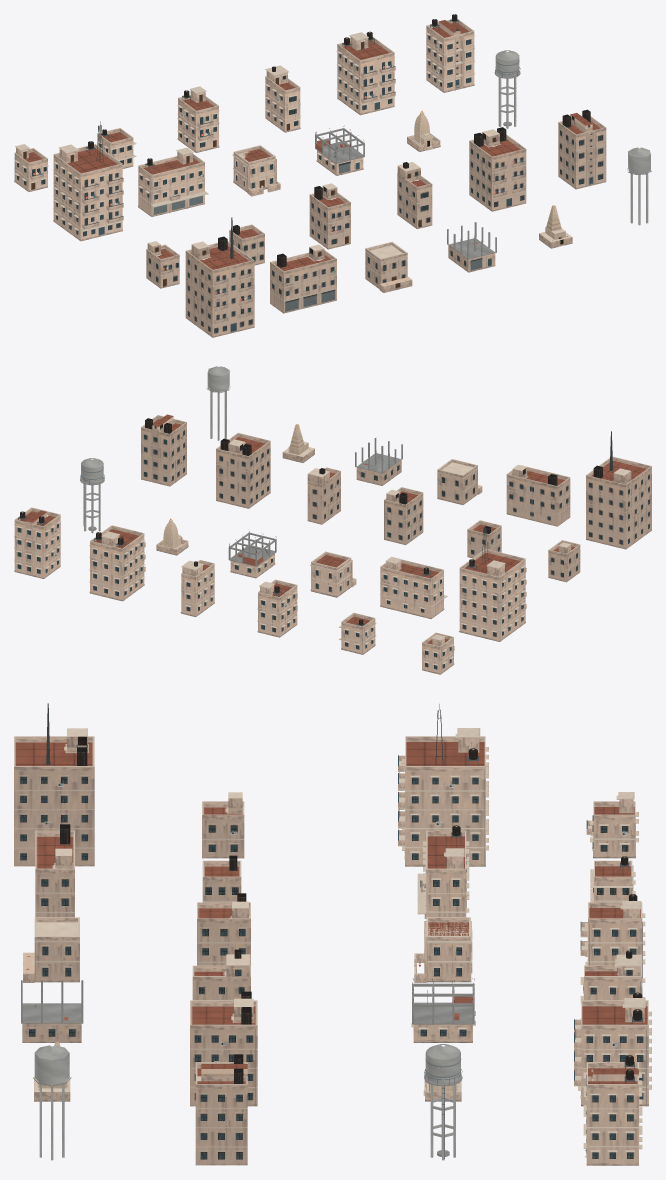
The model's file is city-kit.glb.
3 renders of one model, top to bottom at view 1: azimuth 30°, elevation 25°; view 2: azimuth 150°, elevation 25°; view 3: azimuth 270°, elevation 25°, orthographic. The views are drawn at different scales.
Visible parts, largest first — view 1: flat-5a, flat-5a-far, flat-4a-far, flat-4a, shop-row, shop-row-far, flat-4b-far, flat-4b, house-3a-far, house-3a, house-3b-far, house-3b (+12 smaller); view 2: flat-5a, flat-5a-far, flat-4a, flat-4a-far, shop-row-far, shop-row, flat-4b, flat-4b-far, house-3a, house-3a-far, house-3b-far, house-3b (+12 smaller); view 3: flat-5a, flat-5a-far, flat-4b, flat-4b-far, flat-4a, flat-4a-far, shop-row, house-3a, shop-row-far, old-house, old-house-far, half-built (+10 smaller).
Part boxes in pixels (box(x1,y1,x2,y2)): flat-5a: box(53, 121, 123, 241); flat-5a-far: box(185, 217, 254, 337); flat-4a-far: box(469, 127, 526, 211); flat-4a: box(336, 31, 395, 115); shop-row: box(138, 147, 208, 216); shop-row-far: box(270, 244, 336, 313); flat-4b-far: box(558, 109, 606, 189); flat-4b: box(426, 14, 474, 92); house-3a-far: box(309, 183, 350, 249); house-3a: box(177, 86, 219, 152); house-3b-far: box(397, 162, 432, 228); house-3b: box(265, 65, 300, 132); flat-5a: box(459, 524, 526, 641); flat-5a-far: box(586, 431, 651, 549); flat-4a: box(89, 525, 145, 601); flat-4a-far: box(216, 433, 270, 508); shop-row-far: box(506, 465, 570, 526); shop-row: box(380, 556, 447, 618); flat-4b: box(14, 507, 60, 578); flat-4b-far: box(141, 414, 186, 486); house-3a: box(257, 579, 297, 637); house-3a-far: box(384, 487, 423, 544); house-3b-far: box(307, 467, 340, 524); house-3b: box(180, 560, 214, 616); flat-5a: box(398, 704, 488, 866); flat-5a-far: box(14, 703, 94, 866); flat-4b: box(583, 1055, 642, 1165); flat-4b-far: box(195, 1054, 247, 1165); flat-4a: box(574, 992, 651, 1106); flat-4a-far: box(190, 991, 257, 1106); shop-row: box(417, 825, 469, 918); house-3a: box(580, 894, 645, 978); shop-row-far: box(35, 824, 74, 917); old-house: box(414, 917, 472, 982); old-house-far: box(23, 917, 79, 982); half-built: box(411, 978, 475, 1042).
Size of the model in its own units: 120 by 26.2 by 97.85.
Materials: 1 (1 with a texture image).
